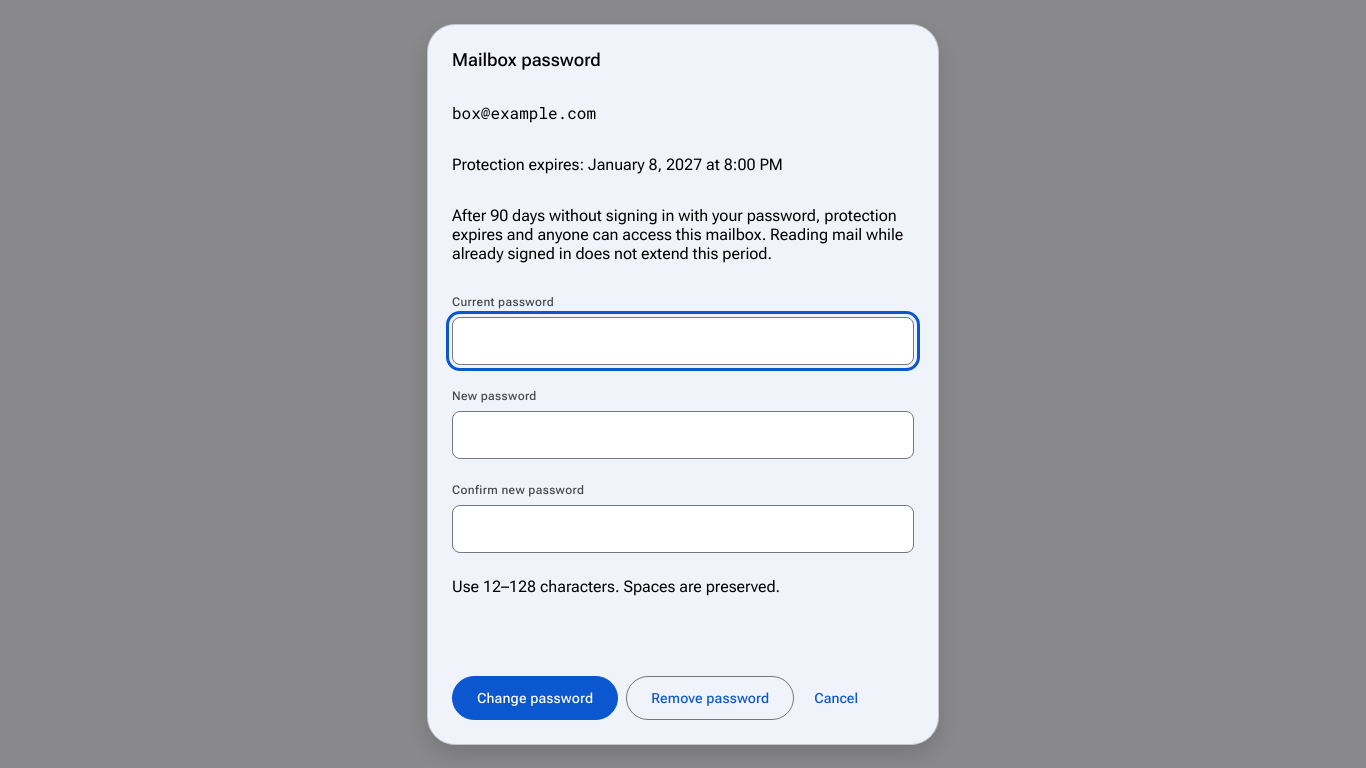
Scenario: invalidates a revoked visitor bearer instead of treating it as a wrong password
In the password field with id "mailbox-current-password": (683, 340) x1=452 y1=316 x2=914 y2=364, type "current-password"
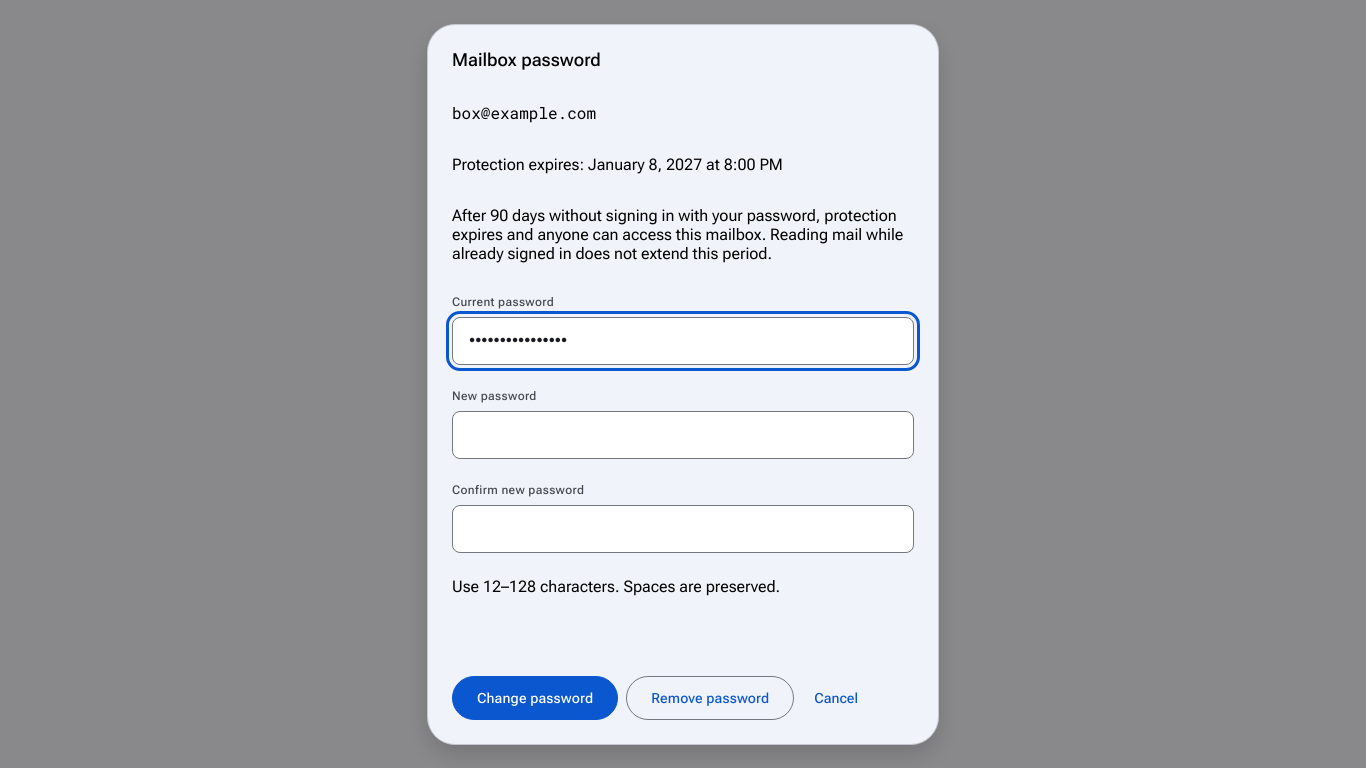
In the password field with id "mailbox-new-password": (683, 434) x1=452 y1=410 x2=914 y2=458, type "replacement-pass"
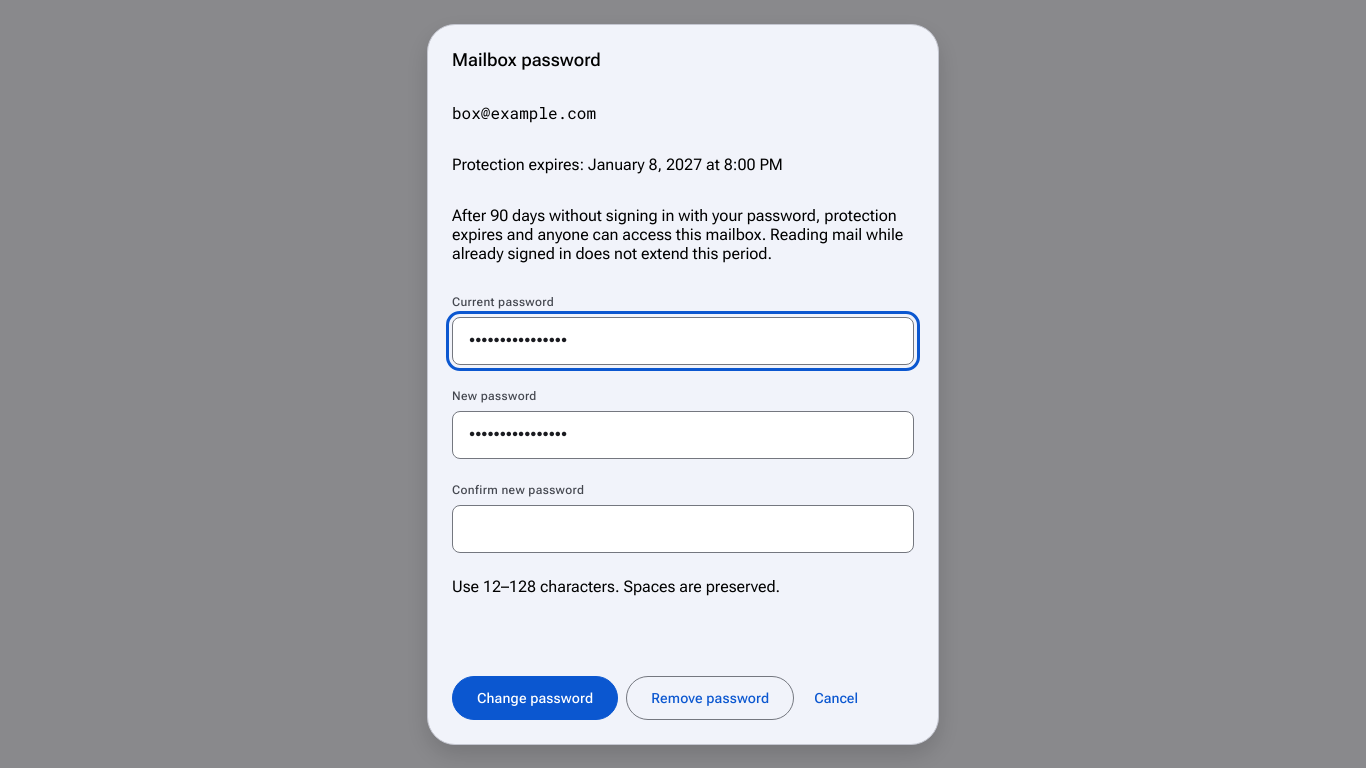
In the password field with id "mailbox-confirm-password": (683, 528) x1=452 y1=504 x2=914 y2=552, type "replacement-pass"
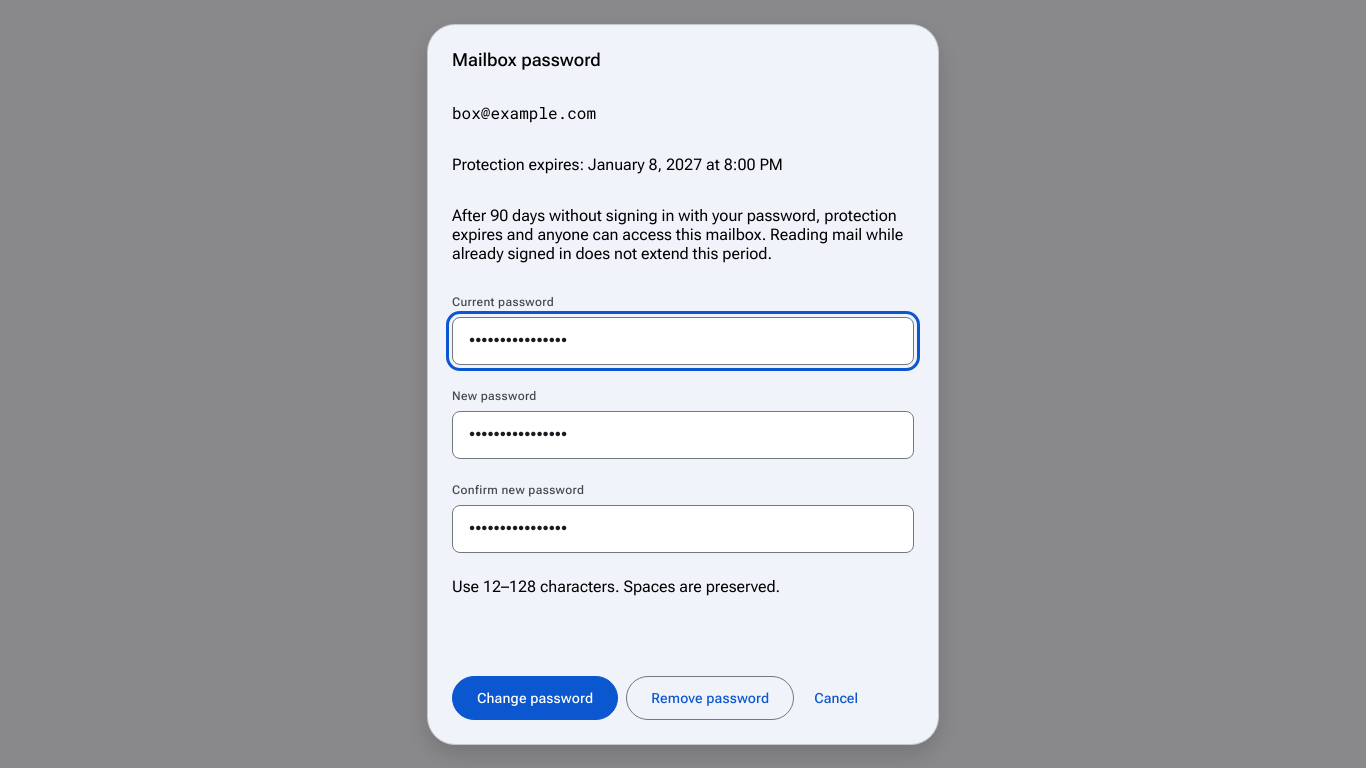
Submit the form, box x1=452 y1=294 x2=914 y2=720
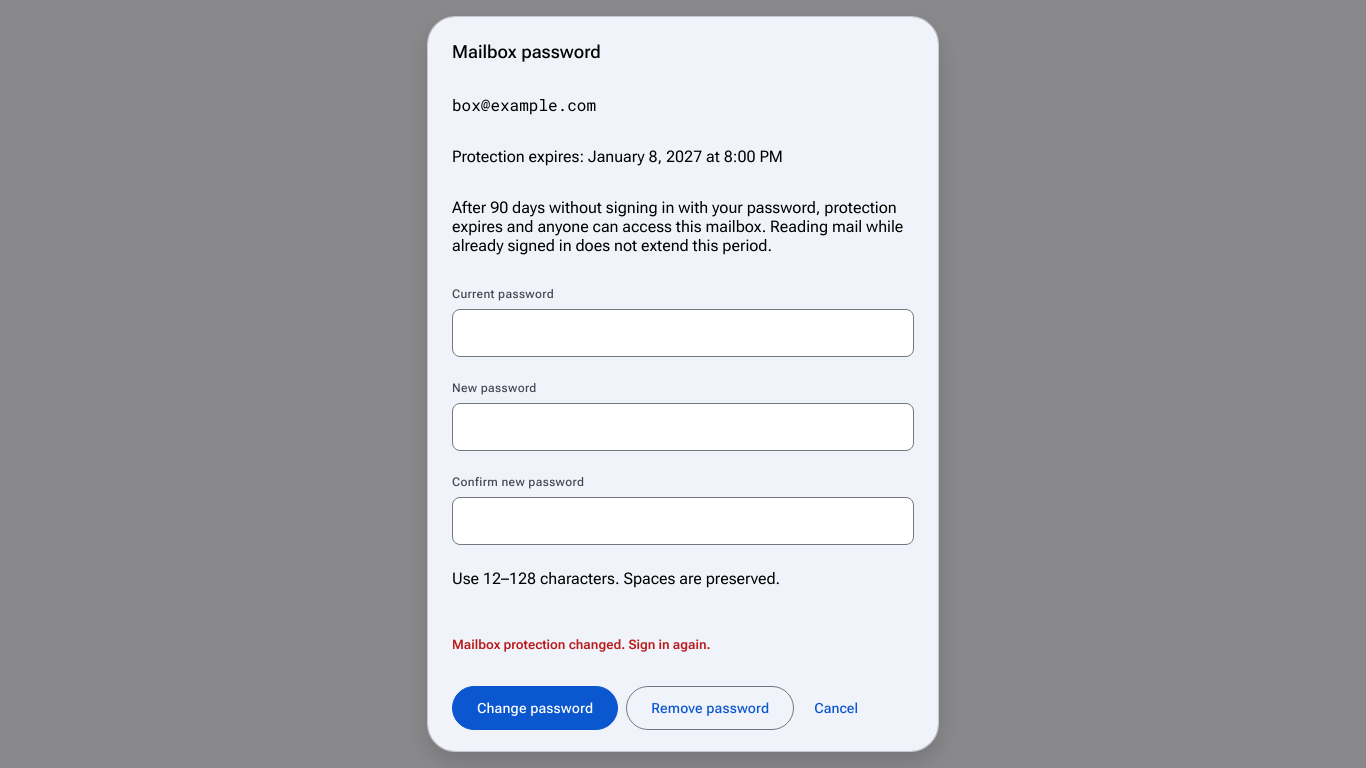
Expected: the message "Mailbox protection changed. Sign in again." is shown, x1=452 y1=637 x2=711 y2=652
